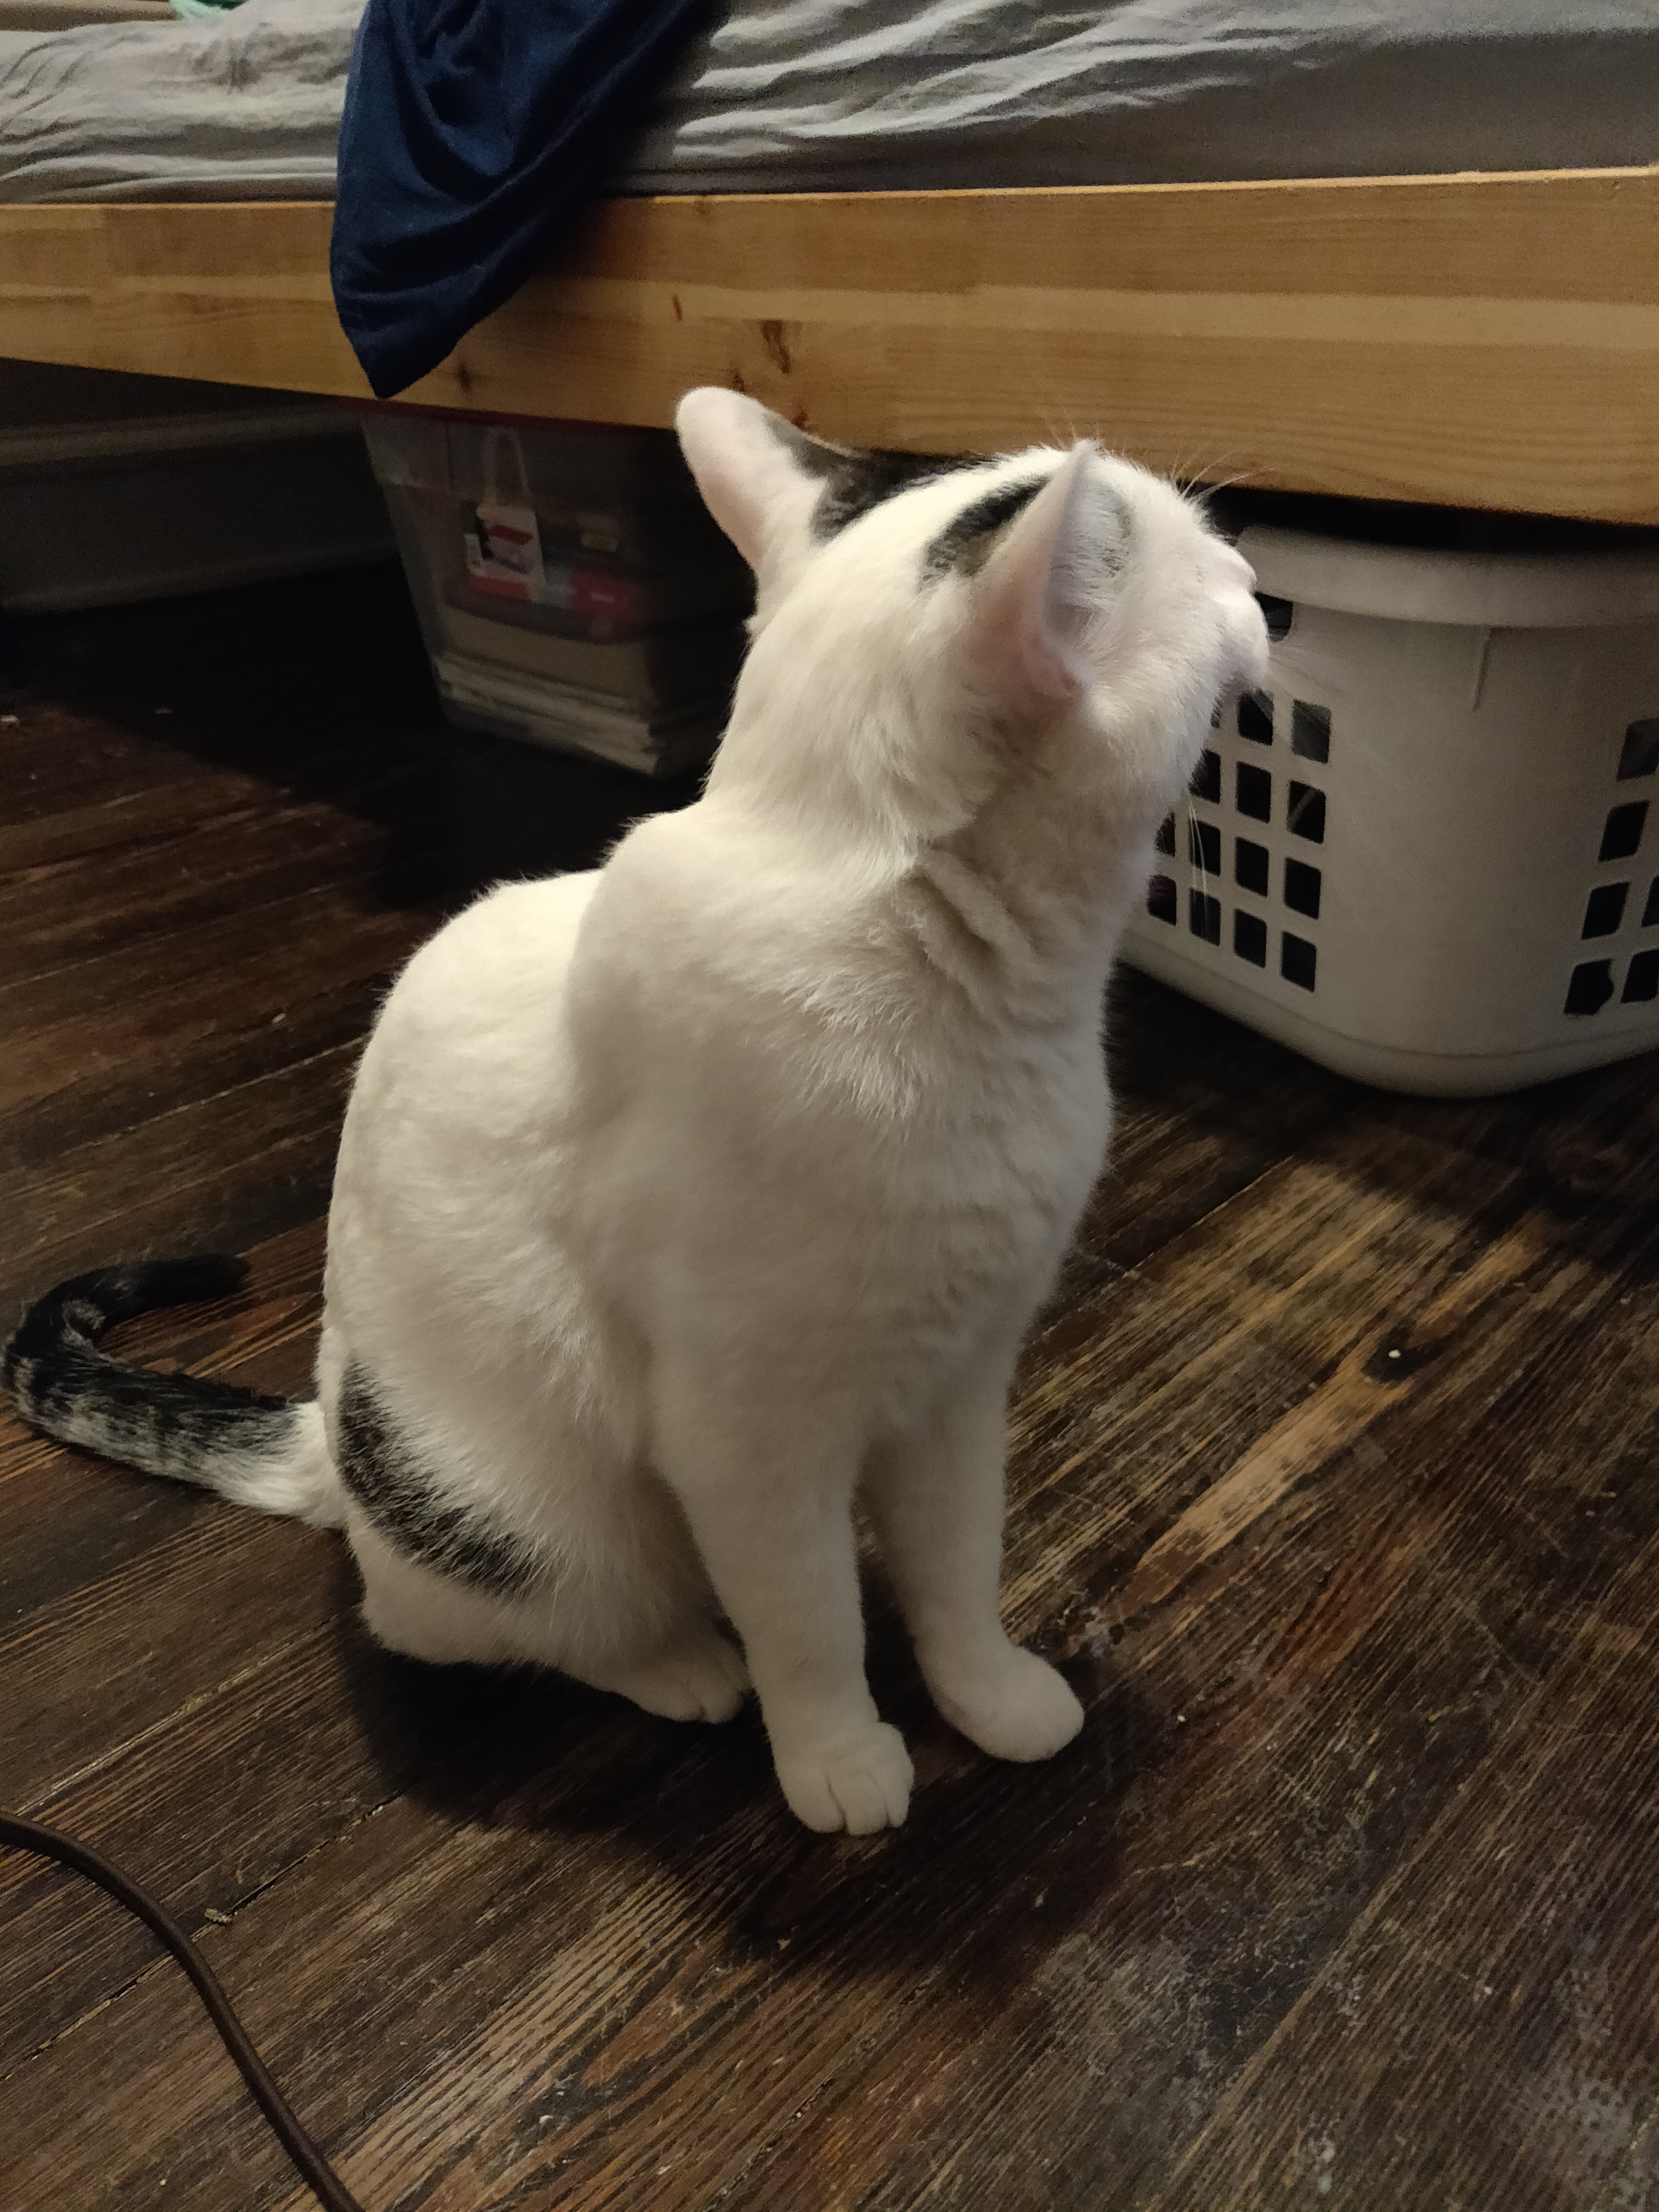cat: (8, 387, 1273, 1824)
